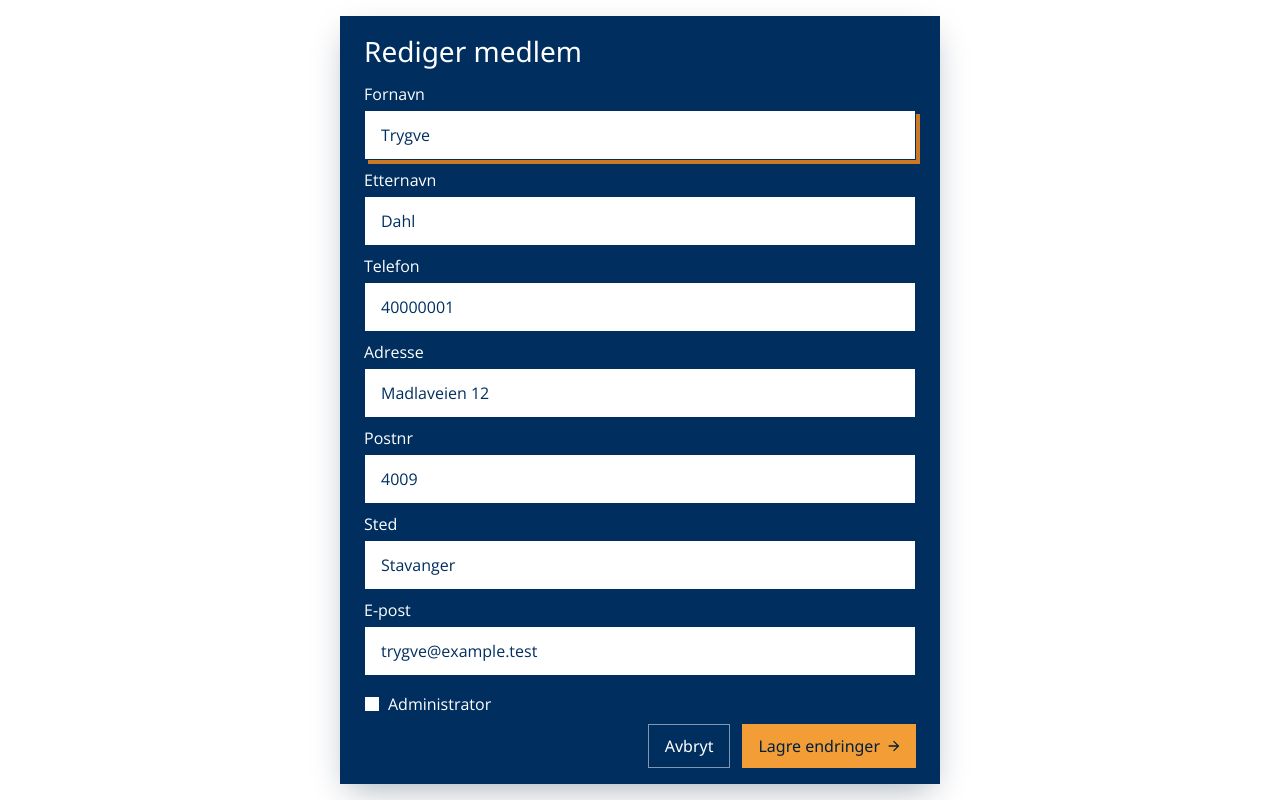
MemberForm › falls back to a generic message when the rejection is not an Error
The width and height of the screenshot is (1280, 800).
Click the button "Lagre endringer".
click(829, 746)  # box [742,724,916,768]
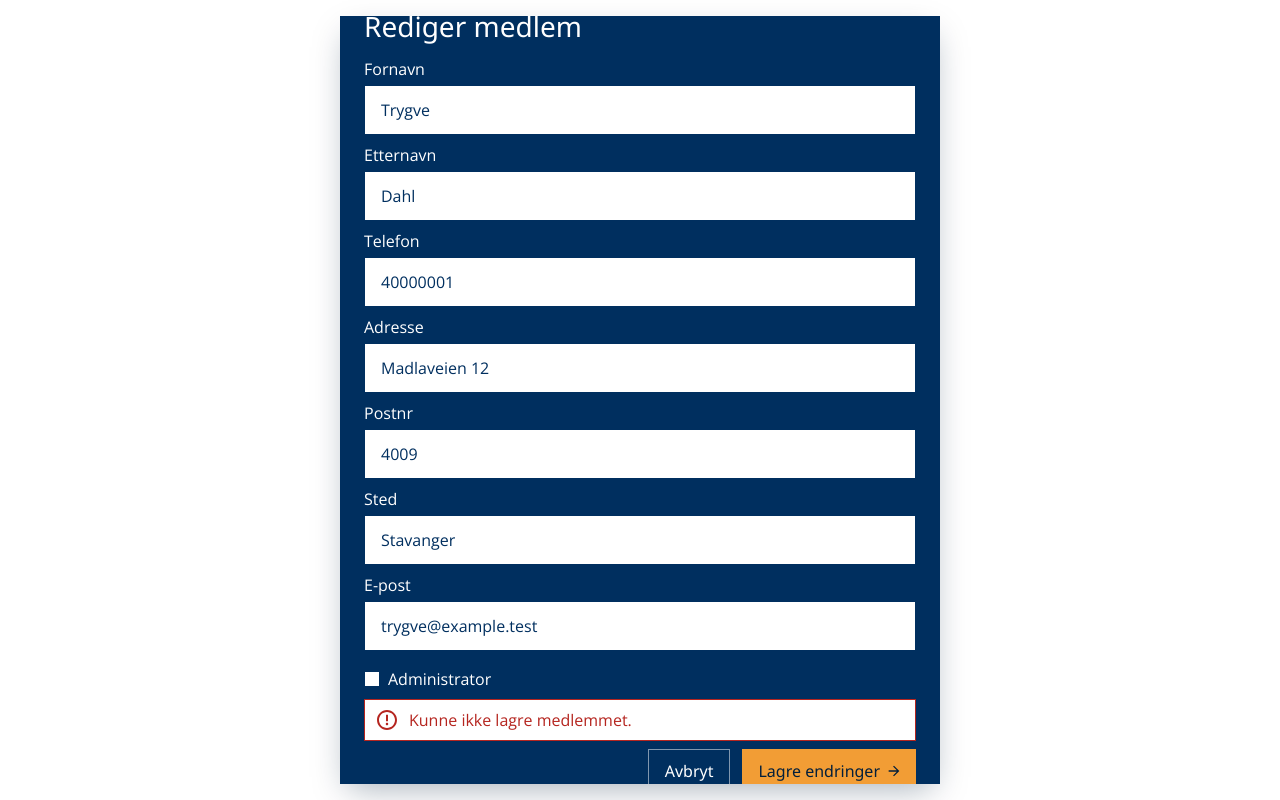
Expected: the message reads "Kunne ikke lagre medlemmet.", [409,709,632,731]
